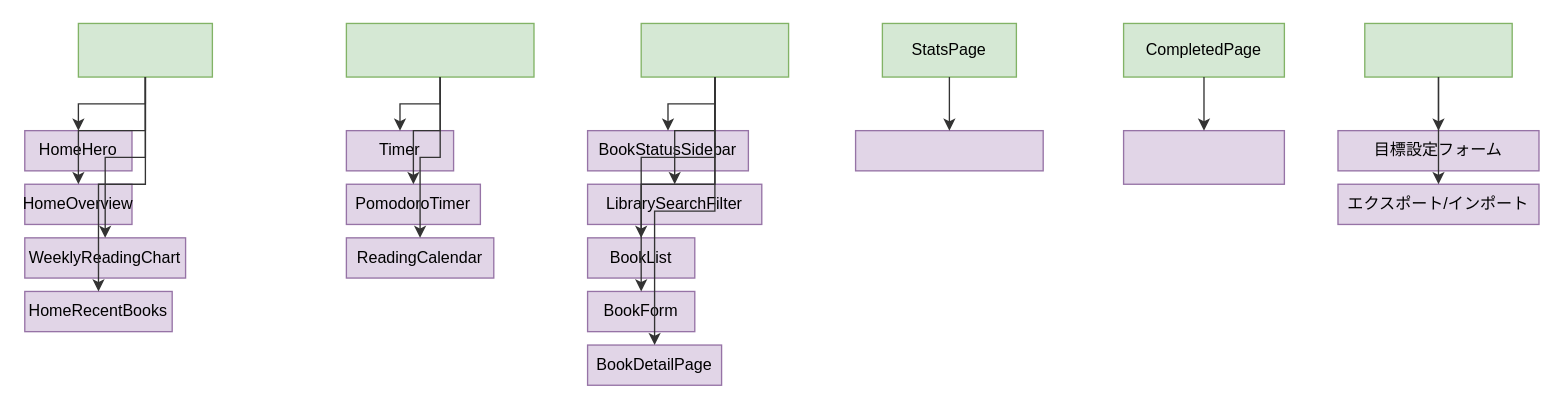
Image size: 1562x409. Some labels were removed from this diagram. The shapes that lost their labels are listed below. From the top down, each one's box as (x1, y1, x2, y2) in pixels, then its label:
(77, 22, 212, 77): Home
(345, 22, 534, 77): ReadingTimePage
(640, 22, 789, 77): LibraryPage
(1363, 22, 1512, 77): SettingsPage
(854, 129, 1043, 171): recharts グラフ
(1122, 129, 1284, 184): 読了本一覧 (Library へリンク)
